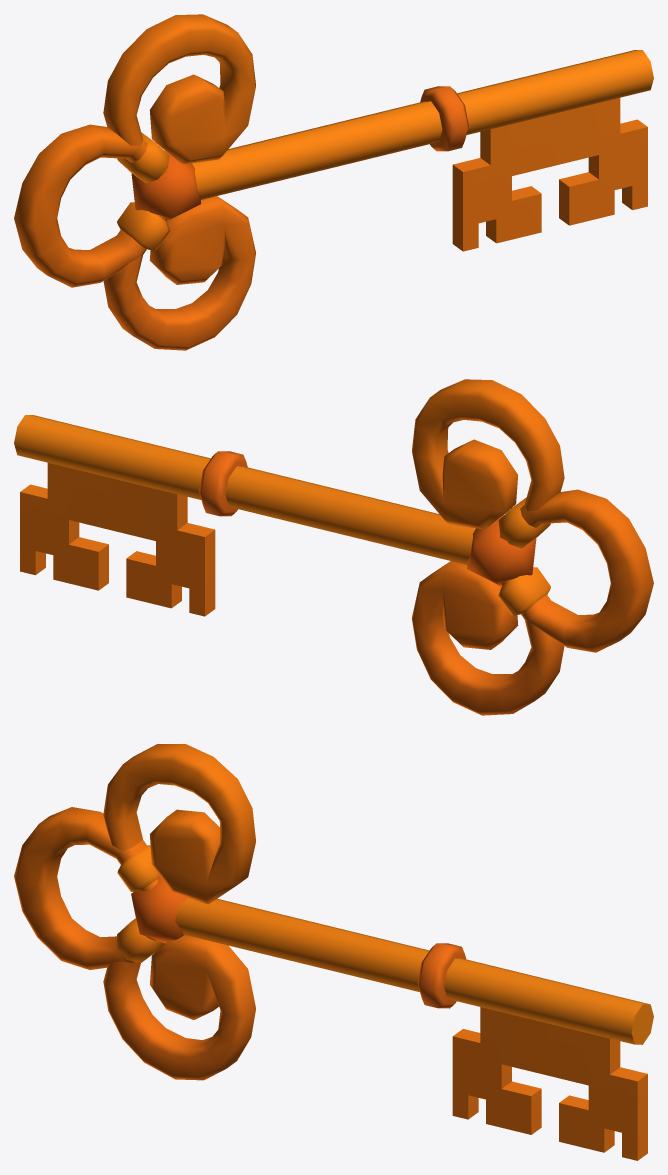
The model's file is key_002.fbx.
The picture shows the model from 3 angles, top to bottom: view 1: azimuth 30°, elevation 25°; view 2: azimuth 150°, elevation 25°; view 3: azimuth 330°, elevation 25°; orthographic projection.
Parts seen in each view (by area): view 1: key_002; view 2: key_002; view 3: key_002.
Boxes of the visible parts, x1,y1,x2,y2 form: key_002: [14, 14, 653, 350]; key_002: [14, 379, 653, 715]; key_002: [14, 744, 653, 1160].
Size of the model in its own units: 169 by 16.1 by 85.08.
